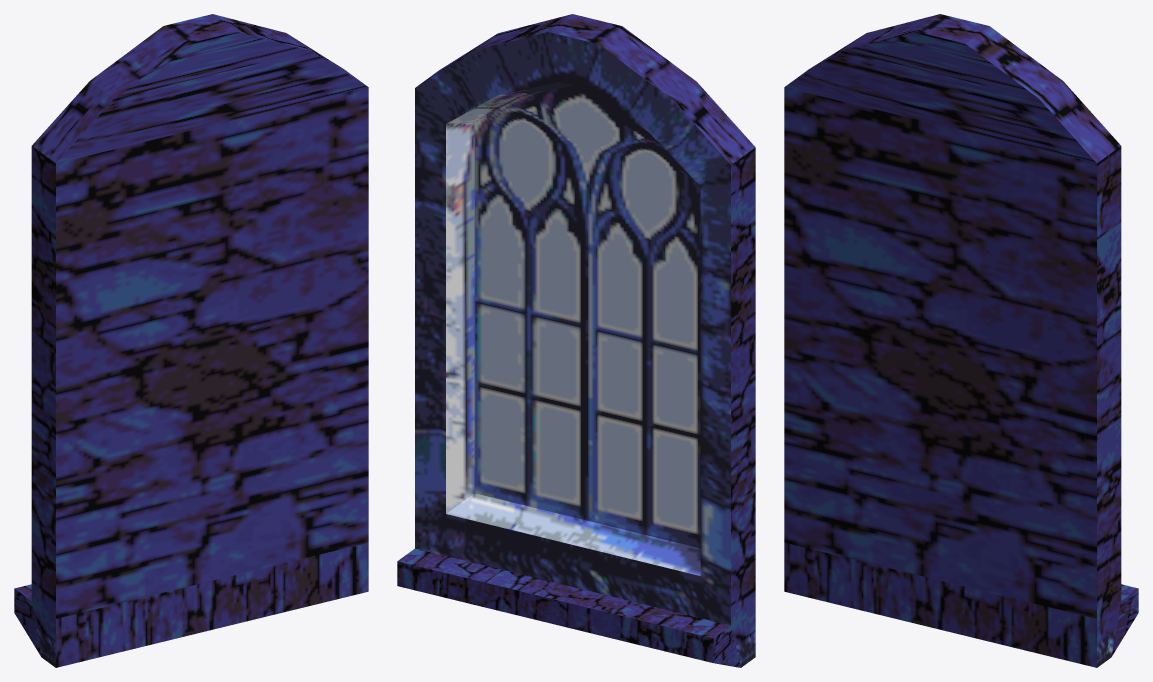
File: window.fbx
3 views of the same model, side by side, from view 1: azimuth 30°, elevation 25°; view 2: azimuth 150°, elevation 25°; view 3: azimuth 330°, elevation 25° (orthographic).
Parts seen in each view (by area): view 1: window; view 2: window; view 3: window.
Part boxes in pixels (bbox=[...]): window: bbox=[14, 14, 368, 667]; window: bbox=[397, 14, 755, 667]; window: bbox=[784, 14, 1138, 667].
Bounding box in the file's own units: 330 × 597 × 75.96.
